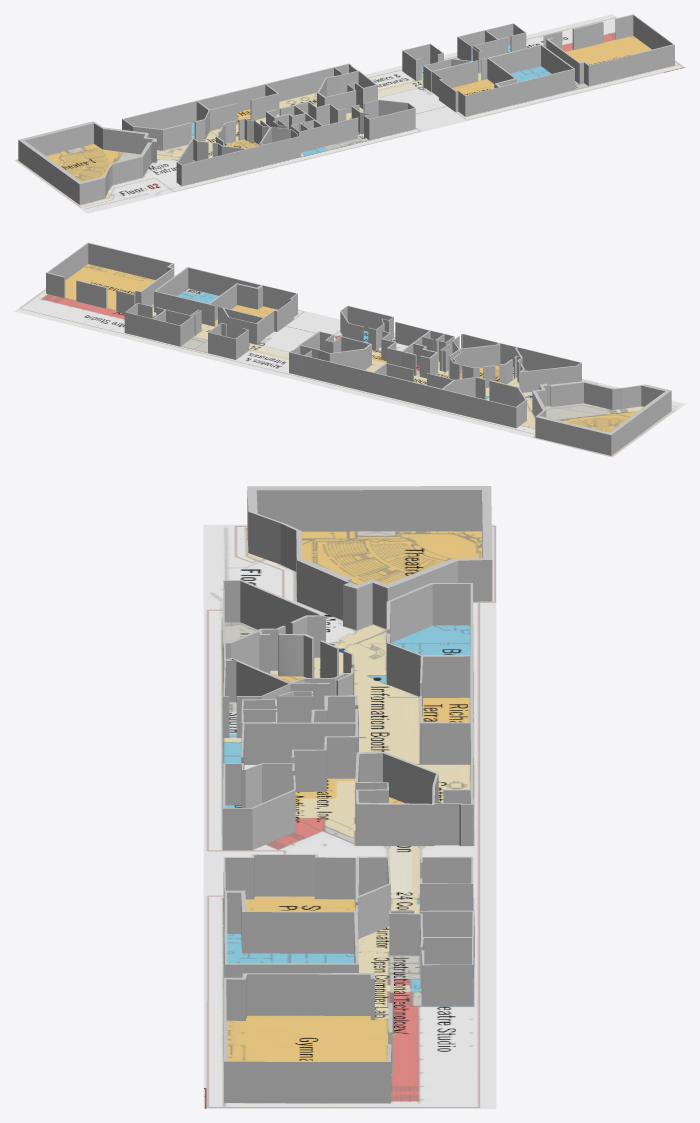
File: MainSecondFloor.fbx
3 views of the same model, one above another, from view 1: azimuth 30°, elevation 25°; view 2: azimuth 150°, elevation 25°; view 3: azimuth 270°, elevation 25° (orthographic). The views are drawn at different scales.
Parts seen in each view (by area): view 1: SecondFloor, Theatre1, Gymnasium, Block2, Swimming_Poll, Bookstore, Reprographics, Richard_Harris_Terrace, Student_Government, Block3, Block1_2, Theatre2 (+10 smaller); view 2: SecondFloor, Theatre1, Gymnasium, Bookstore, Swimming_Poll, Block2, Richard_Harris_Terrace, Theatre2, Reprographics, Block3, Student_Government, Cafeteria (+10 smaller); view 3: SecondFloor, Theatre1, Gymnasium, Block2, Block3, Block1_2, Student_Government, Swimming_Poll, Bookstore, Reprographics, Theatre2, Theatre_Studio (+12 smaller).
Boxes of the visible parts, bbox=[...] form: SecondFloor: bbox=[14, 14, 685, 213]; Theatre1: bbox=[18, 123, 156, 204]; Gymnasium: bbox=[543, 15, 674, 86]; Block2: bbox=[490, 45, 574, 107]; Swimming_Poll: bbox=[432, 58, 514, 116]; Bookstore: bbox=[122, 101, 209, 150]; Reprographics: bbox=[176, 139, 246, 185]; Richard_Harris_Terrace: bbox=[198, 84, 279, 130]; Student_Government: bbox=[351, 100, 415, 139]; Block3: bbox=[317, 71, 377, 113]; Block1_2: bbox=[294, 102, 358, 146]; Theatre2: bbox=[216, 119, 269, 169]; SecondFloor: bbox=[14, 264, 685, 457]; Theatre1: bbox=[532, 382, 671, 455]; Gymnasium: bbox=[46, 243, 174, 313]; Bookstore: bbox=[442, 377, 526, 428]; Swimming_Poll: bbox=[208, 284, 297, 337]; Block2: bbox=[154, 267, 259, 324]; Richard_Harris_Terrace: bbox=[373, 363, 452, 410]; Theatre2: bbox=[453, 343, 520, 387]; Reprographics: bbox=[516, 347, 581, 392]; Block3: bbox=[298, 332, 371, 369]; Student_Government: bbox=[340, 306, 393, 350]; Cafeteria: bbox=[304, 351, 373, 393]; SecondFloor: bbox=[203, 524, 496, 1108]; Theatre1: bbox=[247, 490, 492, 629]; Gymnasium: bbox=[224, 974, 393, 1103]; Block2: bbox=[224, 892, 358, 977]; Block3: bbox=[355, 753, 438, 845]; Block1_2: bbox=[241, 723, 358, 791]; Student_Government: bbox=[223, 764, 295, 849]; Swimming_Poll: bbox=[223, 855, 358, 932]; Bookstore: bbox=[386, 584, 470, 696]; Reprographics: bbox=[223, 581, 325, 684]; Theatre2: bbox=[223, 631, 354, 695]; Theatre_Studio: bbox=[420, 938, 473, 1006].
Size of the model in its own units: 1517 by 50 by 321.
1 material, 1 textured.
